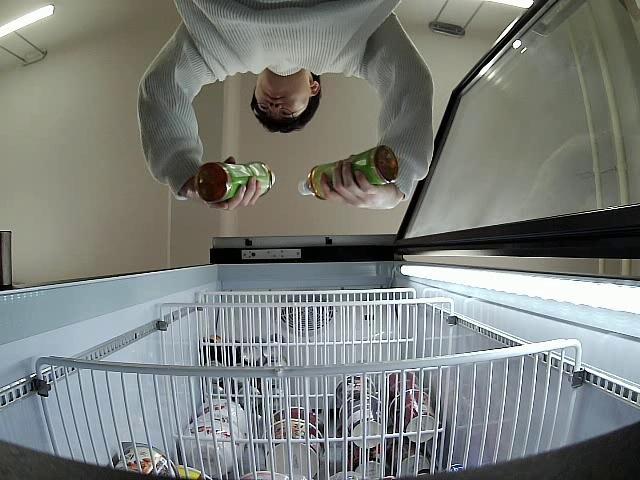00_hand: (321, 155, 403, 211), (201, 156, 261, 212)
19_17cha: (299, 147, 397, 197), (196, 160, 276, 205)
